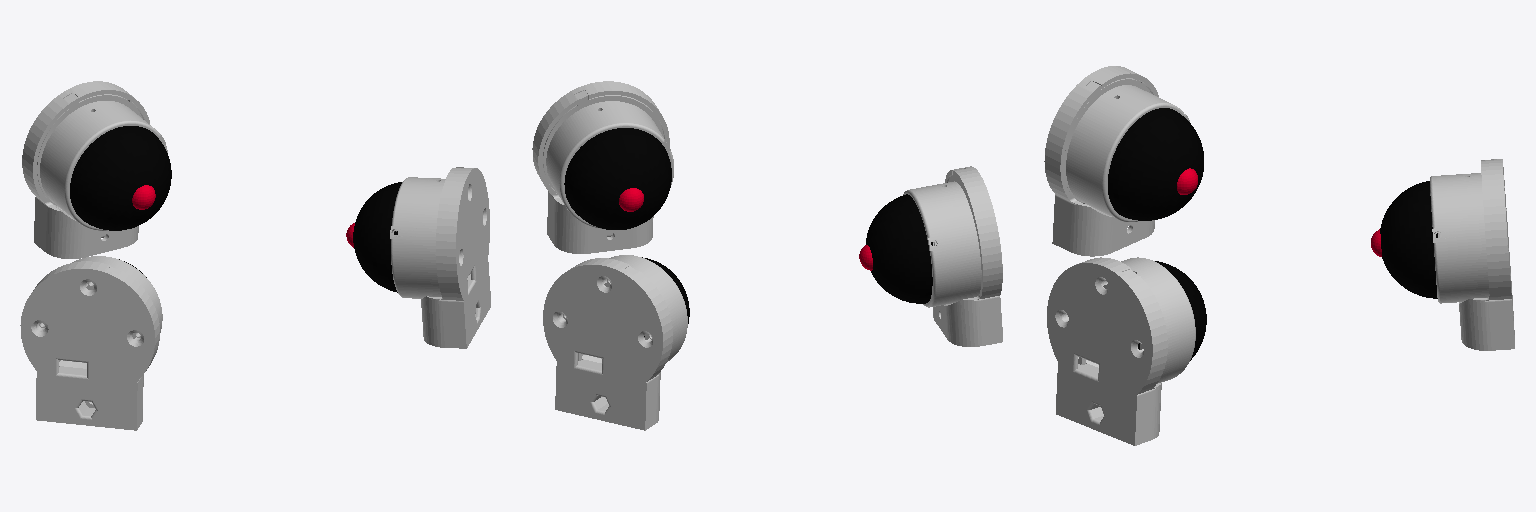
robot.urdf — smart_grasping_sandbox:
<?xml version="1.0" ?>
<!-- =================================================================================== -->
<!-- |    This document was autogenerated by xacro from /smart_grasping_sandbox/src/smart_grasping_sandbox/fh_desc/robots/right_H1_ur5.urdf | -->
<!-- |    EDITING THIS FILE BY HAND IS NOT RECOMMENDED                                 | -->
<!-- =================================================================================== -->
<robot name="smart_grasping_sandbox" xmlns:xacro="http://ros.org/wiki/xacro">

  <!-- Colors -->
  <material name="DarkGrey">
    <color rgba="0.2 0.2 0.2 1.0"/>
  </material>
  <material name="Grey">
    <color rgba="0.4 0.4 0.4 1.0"/>
  </material>
  <material name="Orange">
    <color rgba="1.0 0.423529411765 0.0392156862745 1.0"/>
  </material>
  <material name="Blue">
    <color rgba="0 0.1 1.0 1.0"/>
  </material>
  <material name="LightGrey">
    <color rgba="0.7 0.7 0.7 1.0"/>
  </material>
  <material name="Red">
    <color rgba="0.9 0 0.2 1.0"/>
  </material>
  <material name="Green">
    <color rgba="0 0.9 0.5 1.0"/>
  </material>
  <material name="Yellow">
    <color rgba="0.7 0.7 0 1.0"/>
  </material>
  <material name="LightBlue">
    <color rgba="0. 0.3 1.0 1.0"/>
  </material>
  <material name="Black">
    <color rgba="0.05 0.05 0.05 1.0"/>
  </material>
  <material name="White">
    <color rgba="1.0 1.0 1.0 1.0" />
  </material>
  <material name="TacTipWhite">
   <color rgba="0.8 0.8 0.8 1.0"/>
 </material>
 <material name="TransparentRed">
   <color rgba="0.9 0 0.2 0.5"/>
 </material>

<!-- ====================== Shadow Modular Grasper ====================== -->

<!-- connect hand to world -->
<link name="world"/>

<link name="SMG_base_link">
  <inertial>
    <origin rpy="0 0 0" xyz="-8.6116E-06 -0.0058125 0.028294"/>
    <mass value="0.07527"/>
    <inertia ixx="0.00014442" ixy="1.2033E-08" ixz="-5.9646E-10" iyy="0.00014979" iyz="-1.0288E-05" izz="5.2943E-05"/>
  </inertial>

  <visual>
    <origin rpy="0 0 0" xyz="0 0 0"/>
    <geometry>
      <mesh filename="hand/palm_link_simple.dae"/>
    </geometry>
    <material name="DarkGrey"/>
  </visual>

  <collision>
    <origin rpy="0 0 0" xyz="0 0 0"/>
    <geometry>
      <mesh filename="hand/palm_link_simple.dae"/>
    </geometry>
  </collision>
</link>

<joint name="SMG_base_joint" type="fixed">
  <origin rpy="0 0 0" xyz="0 0 0"/>
  <parent link="world"/>
  <child link="SMG_wrist_attach"/>
</joint>

<link name="SMG_wrist_attach">
  <inertial>
    <mass value="0.1879"/>
    <origin rpy="0 0 0" xyz="0.0 0.0 0.0"/>
    <inertia ixx="1.0" ixy="0.0" ixz="0.0" iyy="1.0" iyz="0.0" izz="1.0"/>
  </inertial>
</link>

<joint name="SMG_base_link_wrist_attach" type="fixed">
  <origin rpy="0 0 0" xyz="0 0 -0.0005"/>
  <child link="SMG_base_link"/>
  <parent link="SMG_wrist_attach"/>
</joint>


  <!-- ============= SMG Body =============== -->
  <link name="SMG_insert_F1">
    <inertial>
      <mass value="0.1879"/>
      <origin rpy="0 0 0" xyz="0.0 0.0 0.0"/>
      <inertia ixx="1.0" ixy="0.0" ixz="0.0" iyy="1.0" iyz="0.0" izz="1.0"/>
    </inertial>
  </link>

  <joint name="SMG_dummy_joint_1" type="fixed">
    <origin rpy="0 0 2.3562" xyz="-0.045 -0.025981 0"/>
    <axis xyz="0 -1 0"/>
    <parent link="SMG_base_link"/>
    <child link="SMG_insert_F1"/>
  </joint>

  <link name="SMG_insert_F2">
    <inertial>
      <mass value="0.1879"/>
      <origin rpy="0 0 0" xyz="0.0 0.0 0.0"/>
      <inertia ixx="1.0" ixy="0.0" ixz="0.0" iyy="1.0" iyz="0.0" izz="1.0"/>
    </inertial>
  </link>

  <joint name="SMG_dummy_joint_2" type="fixed">
    <origin rpy="0 0 0" xyz="0 0.029019 0"/>
    <axis xyz="0 -1 0"/>
    <parent link="SMG_base_link"/>
    <child link="SMG_insert_F2"/>
  </joint>

  <link name="SMG_insert_F3">
    <inertial>
      <mass value="0.1879"/>
      <origin rpy="0 0 0" xyz="0.0 0.0 0.0"/>
      <inertia ixx="1.0" ixy="0.0" ixz="0.0" iyy="1.0" iyz="0.0" izz="1.0"/>
    </inertial>
  </link>

  <joint name="SMG_dummy_joint_3" type="fixed">
    <origin rpy="0 0 -2.3562" xyz="0.045 -0.025981 0"/>
    <axis xyz="0 -1 0"/>
    <parent link="SMG_base_link"/>
    <child link="SMG_insert_F3"/>
  </joint>


  <!-- ============= Finger 1 =============== -->
  <link name="SMG_F1_palm_link">
    <inertial>
      <origin rpy="0 0 0" xyz="-0.00681802120880393 -0.00947020456878004 0.067587996682422"/>
      <mass value="0.0341482312344481"/>
      <inertia ixx="2.79747833772125E-05" ixy="-5.50900644725373E-08" ixz="-2.82072424927723E-07" iyy="2.67800858812928E-05" iyz="3.1953125069394E-06" izz="9.86122271726361E-06"/>
    </inertial>

    <visual>
      <origin rpy="0 0 0" xyz="0 0 0"/>
      <geometry>
        <mesh filename="hand/finger_palm_link.dae"/>
      </geometry>
      <material name="DarkGrey"/>
    </visual>

    <collision>
      <origin rpy="0 0 0" xyz="0 0 0"/>
      <geometry>
        <mesh filename="hand/finger_palm_link.dae"/>
      </geometry>
    </collision>
  </link>

  <link name="SMG_F1_base_link">
    <inertial>
      <origin rpy="0 0 0" xyz="-0.000142856770000038 0.0265691681336443 0.0538751581621436"/>
      <mass value="0.174652229503358"/>
      <inertia ixx="0.000298372741514267" ixy="-5.05751882577435E-07" ixz="1.94982779411417E-07" iyy="0.000299629589232877" iyz="2.79565205733806E-05" izz="0.000134889645145365"/>
    </inertial>

    <visual>
      <origin rpy="0 0 0" xyz="0 0 0"/>
      <geometry>
        <mesh filename="hand/finger_base_link_simple.dae"/>
      </geometry>
      <material name="DarkGrey"/>
    </visual>

    <collision>
      <origin rpy="0 0 0" xyz="0 0 0"/>
      <geometry>
        <mesh filename="hand/finger_base_link_simple.dae"/>
      </geometry>
    </collision>
  </link>

  <link name="SMG_F1_link_1">
    <inertial>
      <origin rpy="0 0 0" xyz="-0.000141876508729455 -0.00135409566494088 0.0277606215980989"/>
      <mass value="0.0827759744227546"/>
      <inertia ixx="4.61070151157777E-05" ixy="7.47741111557837E-08" ixz="-2.25165057702697E-07" iyy="5.27678327317508E-05" iyz="-3.64603343546298E-07" izz="2.89599551320955E-05"/>
    </inertial>

    <visual>
      <origin rpy="0 0 0" xyz="0 0 0"/>
      <geometry>
        <mesh filename="hand/finger_prox_link_simple.dae"/>
      </geometry>
      <material name="LightGrey"/>
    </visual>

    <collision>
      <origin rpy="0 0 0" xyz="0 0 0"/>
      <geometry>
        <mesh filename="hand/finger_prox_link_simple.dae"/>
      </geometry>
    </collision>
  </link>

  <link name="SMG_F1_link_2">
    <inertial>
      <origin rpy="0 0 0" xyz="0.000506812071918918 -0.00091292934992606 0.0156620851768385"/>
      <mass value="0.0270049614151599"/>
      <inertia ixx="1.06942730265546E-05" ixy="-7.1810089794211E-09" ixz="-3.49957211410822E-07" iyy="1.05772889540593E-05" iyz="-8.38595987731518E-07" izz="3.27173446995846E-06"/>
    </inertial>

    <visual>
      <origin rpy="0 0 0" xyz="0 0 0"/>
      <geometry>
        <mesh filename="tip/dist_hand_mount.obj"/>
      </geometry>
      <material name="DarkGrey"/>
    </visual>

    <collision>
      <origin rpy="0 0 0" xyz="0 0 0"/>
      <geometry>
        <mesh filename="tip/dist_hand_mount.obj"/>
      </geometry>
    </collision>
  </link>

  <joint name="SMG_F1_palm" type="fixed">
    <origin rpy="0 0 0" xyz="0 0 0"/>
    <parent link="SMG_insert_F1"/>
    <child link="SMG_F1_palm_link"/>
  </joint>

  <joint name="SMG_F1J1" type="revolute">
    <origin rpy="-8.8818E-16 -1.0061E-16 0.022402" xyz="0 0 0.00016528"/>
    <axis xyz="0 0 1"/>
    <parent link="SMG_F1_palm_link"/>
    <child link="SMG_F1_base_link"/>
    <limit effort="50" lower="-0.785398163397" upper="0.785398163397" velocity="1.0"/>
    <!-- <dynamics damping="0.5" friction="0.0"/> -->
  </joint>

  <joint name="SMG_F1J2" type="revolute">
    <origin rpy="0.070695 6.9389E-16 2.0947E-16" xyz="0 0.035 0.11683"/>
    <axis xyz="1 0 0"/>
    <parent link="SMG_F1_base_link"/>
    <child link="SMG_F1_link_1"/>
    <limit effort="50" lower="-1.3962634016" upper="1.0471975512" velocity="1.0"/>
    <!-- <dynamics damping="0.5" friction="0.0"/> -->
  </joint>

  <joint name="SMG_F1J3" type="revolute">
    <origin rpy="-0.0068649 1.7347E-18 1.6176E-16" xyz="0 0 0.06"/>
    <axis xyz="1 0 0"/>
    <parent link="SMG_F1_link_1"/>
    <child link="SMG_F1_link_2"/>
    <limit effort="50" lower="-1.0471975512" upper="1.57079632679" velocity="1.0"/>
    <!-- <dynamics damping="0.5" friction="0.0"/> -->
  </joint>

  <link name="SMG_F1_tactip_body">
    <inertial>
      <origin rpy="0 0 0" xyz="-0.000925580990320645 -0.00495543398528436 0.0355865585792753"/>
      <mass value="0.01"/>
      <inertia ixx="1E-06" ixy="0" ixz="0" iyy="1E-06" iyz="0" izz="1E-06"/>
    </inertial>

    <visual>
      <origin rpy="0 0 0" xyz="0 0 0"/>
      <geometry>
        <mesh filename="tip/minitip_smg_adapter.obj"/>
      </geometry>
      <material name="TacTipWhite"/>
    </visual>

    <collision>
      <origin rpy="0 0 0" xyz="0 0 0"/>
      <geometry>
        <mesh filename="tip/minitip_smg_adapter.obj"/>
      </geometry>
    </collision>
  </link>

  <joint name="SMG_F1_tactip_body_joint" type="fixed">
    <parent link="SMG_F1_link_2"/>
    <child link="SMG_F1_tactip_body"/>
  </joint>

  <link name="SMG_F1_tactip_tip">
    <inertial>
      <origin rpy="0 0 0" xyz="-0.000925580990320645 -0.00495543398528436 0.0355865585792753"/>
      <mass value="0.01"/>
      <inertia ixx="1E-06" ixy="0" ixz="0" iyy="1E-06" iyz="0" izz="1E-06"/>
    </inertial>

    <visual>
      <origin rpy="0 0 0" xyz="0 0 0"/>
      <geometry>
        <mesh filename="tip/smg_tactip_skin.obj"/>
      </geometry>
      <material name="Black"/>
    </visual>

    <collision>
      <origin rpy="0 0 0" xyz="0 0 0"/>
      <geometry>
        <mesh filename="tip/smg_tactip_core.obj"/>
      </geometry>
    </collision>
  </link>

  <joint name="SMG_F1_tactip_tip_joint" type="fixed">
    <parent link="SMG_F1_tactip_body"/>
    <child link="SMG_F1_tactip_tip"/>
  </joint>

  <!-- TCP -->
  <link name="F1_tcp_link">
    <visual>
      <origin rpy="0 0 0" xyz="0 0 0"/>
      <geometry>
        <sphere radius="0.005"/>
      </geometry>
       <material name="TransparentRed"/>
    </visual>
    <inertial>
      <mass value="0.0"/>
      <origin rpy="0.0 0.0 3.14" xyz="0.0 0.0 0.0"/>
      <inertia ixx="1.0" ixy="0.0" ixz="0.0" iyy="1.0" iyz="0.0" izz="1.0"/>
    </inertial>
  </link>

  <joint name="F1_tcp_joint" type="fixed">
    <parent link="SMG_F1_tactip_body"/>
    <child link="F1_tcp_link"/>
    <origin rpy="0 0 0" xyz="0.0 -0.02 0.052"/>
  </joint>


  <!-- ============= Finger 2 =============== -->
  <link name="SMG_F2_palm_link">
    <inertial>
      <origin rpy="0 0 0" xyz="-0.00681802120880393 -0.00947020456878004 0.067587996682422"/>
      <mass value="0.0341482312344481"/>
      <inertia ixx="2.79747833772125E-05" ixy="-5.50900644725373E-08" ixz="-2.82072424927723E-07" iyy="2.67800858812928E-05" iyz="3.1953125069394E-06" izz="9.86122271726361E-06"/>
    </inertial>

    <visual>
      <origin rpy="0 0 0" xyz="0 0 0"/>
      <geometry>
        <mesh filename="hand/finger_palm_link.dae"/>
      </geometry>
      <material name="DarkGrey"/>
    </visual>

    <collision>
      <origin rpy="0 0 0" xyz="0 0 0"/>
      <geometry>
        <mesh filename="hand/finger_palm_link.dae"/>
      </geometry>
    </collision>
  </link>

  <link name="SMG_F2_base_link">
    <inertial>
      <origin rpy="0 0 0" xyz="-0.000142856770000038 0.0265691681336443 0.0538751581621436"/>
      <mass value="0.174652229503358"/>
      <inertia ixx="0.000298372741514267" ixy="-5.05751882577435E-07" ixz="1.94982779411417E-07" iyy="0.000299629589232877" iyz="2.79565205733806E-05" izz="0.000134889645145365"/>
    </inertial>

    <visual>
      <origin rpy="0 0 0" xyz="0 0 0"/>
      <geometry>
        <mesh filename="hand/finger_base_link_simple.dae"/>
      </geometry>
      <material name="DarkGrey"/>
    </visual>

    <collision>
      <origin rpy="0 0 0" xyz="0 0 0"/>
      <geometry>
        <mesh filename="hand/finger_base_link_simple.dae"/>
      </geometry>
    </collision>
  </link>


  <link name="SMG_F2_link_1">
    <inertial>
      <origin rpy="0 0 0" xyz="-0.000141876508729455 -0.00135409566494088 0.0277606215980989"/>
      <mass value="0.0827759744227546"/>
      <inertia ixx="4.61070151157777E-05" ixy="7.47741111557837E-08" ixz="-2.25165057702697E-07" iyy="5.27678327317508E-05" iyz="-3.64603343546298E-07" izz="2.89599551320955E-05"/>
    </inertial>

    <visual>
      <origin rpy="0 0 0" xyz="0 0 0"/>
      <geometry>
        <mesh filename="hand/finger_prox_link_simple.dae"/>
      </geometry>
      <material name="LightGrey"/>
    </visual>

    <collision>
      <origin rpy="0 0 0" xyz="0 0 0"/>
      <geometry>
        <mesh filename="hand/finger_prox_link_simple.dae"/>
      </geometry>
    </collision>
  </link>


  <link name="SMG_F2_link_2">
    <inertial>
      <origin rpy="0 0 0" xyz="0.000506812071918918 -0.00091292934992606 0.0156620851768385"/>
      <mass value="0.0270049614151599"/>
      <inertia ixx="1.06942730265546E-05" ixy="-7.1810089794211E-09" ixz="-3.49957211410822E-07" iyy="1.05772889540593E-05" iyz="-8.38595987731518E-07" izz="3.27173446995846E-06"/>
    </inertial>

    <visual>
      <origin rpy="0 0 0" xyz="0 0 0"/>
      <geometry>
        <mesh filename="tip/dist_hand_mount.obj"/>
      </geometry>
      <material name="DarkGrey"/>
    </visual>

    <collision>
      <origin rpy="0 0 0" xyz="0 0 0"/>
      <geometry>
        <mesh filename="tip/dist_hand_mount.obj"/>
      </geometry>
    </collision>
  </link>

  <joint name="SMG_F2_palm" type="fixed">
    <origin rpy="0 0 0" xyz="0 0 0"/>
    <parent link="SMG_insert_F2"/>
    <child link="SMG_F2_palm_link"/>
  </joint>

  <joint name="SMG_F2J1" type="revolute">
    <origin rpy="-8.8818E-16 -1.0061E-16 0.022402" xyz="0 0 0.00016528"/>
    <axis xyz="0 0 1"/>
    <parent link="SMG_F2_palm_link"/>
    <child link="SMG_F2_base_link"/>
    <limit effort="30" lower="-0.785398163397" upper="0.785398163397" velocity="1.0"/>
    <!-- <dynamics damping="0.5" friction="0.0"/> -->
  </joint>

  <joint name="SMG_F2J2" type="revolute">
    <origin rpy="0.070695 6.9389E-16 2.0947E-16" xyz="0 0.035 0.11683"/>
    <axis xyz="1 0 0"/>
    <parent link="SMG_F2_base_link"/>
    <child link="SMG_F2_link_1"/>
    <limit effort="30" lower="-1.3962634016" upper="1.0471975512" velocity="1.0"/>
    <!-- <dynamics damping="0.5" friction="0.0"/> -->
  </joint>

  <joint name="SMG_F2J3" type="revolute">
    <origin rpy="-0.0068649 1.7347E-18 1.6176E-16" xyz="0 0 0.06"/>
    <axis xyz="1 0 0"/>
    <parent link="SMG_F2_link_1"/>
    <child link="SMG_F2_link_2"/>
    <limit effort="30" lower="-1.0471975512" upper="1.57079632679" velocity="1.0"/>
    <!-- <dynamics damping="0.5" friction="0.0"/> -->
  </joint>

  <link name="SMG_F2_tactip_body">
    <inertial>
      <origin rpy="0 0 0" xyz="-0.000925580990320645 -0.00495543398528436 0.0355865585792753"/>
      <mass value="0.01"/>
      <inertia ixx="1E-06" ixy="0" ixz="0" iyy="1E-06" iyz="0" izz="1E-06"/>
    </inertial>

    <visual>
      <origin rpy="0 0 0" xyz="0 0 0"/>
      <geometry>
        <mesh filename="tip/minitip_smg_adapter.obj"/>
      </geometry>
      <material name="TacTipWhite"/>
    </visual>

    <collision>
      <origin rpy="0 0 0" xyz="0 0 0"/>
      <geometry>
        <mesh filename="tip/minitip_smg_adapter.obj"/>
      </geometry>
    </collision>
  </link>

  <joint name="SMG_F2_tactip_body_joint" type="fixed">
    <parent link="SMG_F2_link_2"/>
    <child link="SMG_F2_tactip_body"/>
  </joint>

  <link name="SMG_F2_tactip_tip">
    <inertial>
      <origin rpy="0 0 0" xyz="-0.000925580990320645 -0.00495543398528436 0.0355865585792753"/>
      <mass value="0.01"/>
      <inertia ixx="1E-06" ixy="0" ixz="0" iyy="1E-06" iyz="0" izz="1E-06"/>
    </inertial>

    <visual>
      <origin rpy="0 0 0" xyz="0 0 0"/>
      <geometry>
        <mesh filename="tip/smg_tactip_skin.obj"/>
      </geometry>
      <material name="Black"/>
    </visual>

    <collision>
      <origin rpy="0 0 0" xyz="0 0 0"/>
      <geometry>
        <mesh filename="tip/smg_tactip_core.obj"/>
      </geometry>
    </collision>
  </link>

  <joint name="SMG_F2_tactip_tip_joint" type="fixed">
    <parent link="SMG_F2_tactip_body"/>
    <child link="SMG_F2_tactip_tip"/>
  </joint>

  <!-- TCP -->
  <link name="F2_tcp_link">
    <visual>
      <origin rpy="0 0 0" xyz="0 0 0"/>
      <geometry>
        <sphere radius="0.005"/>
      </geometry>
       <material name="TransparentRed"/>
    </visual>
    <inertial>
      <mass value="0.0"/>
      <origin rpy="0.0 0.0 3.14" xyz="0.0 0.0 0.0"/>
      <inertia ixx="1.0" ixy="0.0" ixz="0.0" iyy="1.0" iyz="0.0" izz="1.0"/>
    </inertial>
  </link>

  <joint name="F2_tcp_joint" type="fixed">
    <parent link="SMG_F2_tactip_body"/>
    <child link="F2_tcp_link"/>
    <origin rpy="0 0 0" xyz="0.0 -0.02 0.052"/>
  </joint>

  <!-- ============= Finger 3 =============== -->
  <link name="SMG_F3_palm_link">
    <inertial>
      <origin rpy="0 0 0" xyz="-0.00681802120880393 -0.00947020456878004 0.067587996682422"/>
      <mass value="0.0341482312344481"/>
      <inertia ixx="2.79747833772125E-05" ixy="-5.50900644725373E-08" ixz="-2.82072424927723E-07" iyy="2.67800858812928E-05" iyz="3.1953125069394E-06" izz="9.86122271726361E-06"/>
    </inertial>

    <visual>
      <origin rpy="0 0 0" xyz="0 0 0"/>
      <geometry>
        <mesh filename="hand/finger_palm_link.dae"/>
      </geometry>
      <material name="DarkGrey"/>
    </visual>

    <collision>
      <origin rpy="0 0 0" xyz="0 0 0"/>
      <geometry>
        <mesh filename="hand/finger_palm_link.dae"/>
      </geometry>
    </collision>
  </link>


  <link name="SMG_F3_base_link">
    <inertial>
      <origin rpy="0 0 0" xyz="-0.000142856770000038 0.0265691681336443 0.0538751581621436"/>
      <mass value="0.174652229503358"/>
      <inertia ixx="0.000298372741514267" ixy="-5.05751882577435E-07" ixz="1.94982779411417E-07" iyy="0.000299629589232877" iyz="2.79565205733806E-05" izz="0.000134889645145365"/>
    </inertial>

    <visual>
      <origin rpy="0 0 0" xyz="0 0 0"/>
      <geometry>
        <mesh filename="hand/finger_base_link_simple.dae"/>
      </geometry>
      <material name="DarkGrey"/>
    </visual>

    <collision>
      <origin rpy="0 0 0" xyz="0 0 0"/>
      <geometry>
        <mesh filename="hand/finger_base_link_simple.dae"/>
      </geometry>
    </collision>
  </link>


  <link name="SMG_F3_link_1">
    <inertial>
      <origin rpy="0 0 0" xyz="-0.000141876508729455 -0.00135409566494088 0.0277606215980989"/>
      <mass value="0.0827759744227546"/>
      <inertia ixx="4.61070151157777E-05" ixy="7.47741111557837E-08" ixz="-2.25165057702697E-07" iyy="5.27678327317508E-05" iyz="-3.64603343546298E-07" izz="2.89599551320955E-05"/>
    </inertial>

    <visual>
      <origin rpy="0 0 0" xyz="0 0 0"/>
      <geometry>
        <mesh filename="hand/finger_prox_link_simple.dae"/>
      </geometry>
      <material name="LightGrey"/>
    </visual>

    <collision>
      <origin rpy="0 0 0" xyz="0 0 0"/>
      <geometry>
        <mesh filename="hand/finger_prox_link_simple.dae"/>
      </geometry>
    </collision>
  </link>



  <link name="SMG_F3_link_2">
    <inertial>
      <origin rpy="0 0 0" xyz="0.000506812071918918 -0.00091292934992606 0.0156620851768385"/>
      <mass value="0.0270049614151599"/>
      <inertia ixx="1.06942730265546E-05" ixy="-7.1810089794211E-09" ixz="-3.49957211410822E-07" iyy="1.05772889540593E-05" iyz="-8.38595987731518E-07" izz="3.27173446995846E-06"/>
    </inertial>

    <visual>
      <origin rpy="0 0 0" xyz="0 0 0"/>
      <geometry>
        <mesh filename="tip/dist_hand_mount.obj"/>
      </geometry>
      <material name="DarkGrey"/>
    </visual>

    <collision>
      <origin rpy="0 0 0" xyz="0 0 0"/>
      <geometry>
        <mesh filename="tip/dist_hand_mount.obj"/>
      </geometry>
    </collision>
  </link>


  <joint name="SMG_F3Palm" type="fixed">
    <origin rpy="0 0 0" xyz="0 0 0"/>
    <parent link="SMG_insert_F3"/>
    <child link="SMG_F3_palm_link"/>
  </joint>

  <joint name="SMG_F3J1" type="revolute">
    <origin rpy="-8.8818E-16 -1.0061E-16 0.022402" xyz="0 0 0.00016528"/>
    <axis xyz="0 0 1"/>
    <parent link="SMG_F3_palm_link"/>
    <child link="SMG_F3_base_link"/>
    <limit effort="30" lower="-0.785398163397" upper="0.785398163397" velocity="1.0"/>
    <!-- <dynamics damping="0.5" friction="0.0"/> -->
  </joint>

  <joint name="SMG_F3J2" type="revolute">
    <origin rpy="0.070695 6.9389E-16 2.0947E-16" xyz="0 0.035 0.11683"/>
    <axis xyz="1 0 0"/>
    <parent link="SMG_F3_base_link"/>
    <child link="SMG_F3_link_1"/>
    <limit effort="30" lower="-1.3962634016" upper="1.0471975512" velocity="1.0"/>
    <!-- <dynamics damping="0.5" friction="0.0"/> -->
  </joint>

  <joint name="SMG_F3J3" type="revolute">
    <origin rpy="-0.0068649 1.7347E-18 1.6176E-16" xyz="0 0 0.06"/>
    <axis xyz="1 0 0"/>
    <parent link="SMG_F3_link_1"/>
    <child link="SMG_F3_link_2"/>
    <limit effort="30" lower="-1.0471975512" upper="1.57079632679" velocity="1.0"/>
    <!-- <dynamics damping="0.5" friction="0.0"/> -->
  </joint>

  <link name="SMG_F3_tactip_body">
    <inertial>
      <origin rpy="0 0 0" xyz="-0.000925580990320645 -0.00495543398528436 0.0355865585792753"/>
      <mass value="0.01"/>
      <inertia ixx="1E-06" ixy="0" ixz="0" iyy="1E-06" iyz="0" izz="1E-06"/>
    </inertial>

    <visual>
      <origin rpy="0 0 0" xyz="0 0 0"/>
      <geometry>
        <mesh filename="tip/minitip_smg_adapter.obj"/>
      </geometry>
      <material name="TacTipWhite"/>
    </visual>

    <collision>
      <origin rpy="0 0 0" xyz="0 0 0"/>
      <geometry>
        <mesh filename="tip/minitip_smg_adapter.obj"/>
      </geometry>
    </collision>
  </link>

  <joint name="SMG_F3_tactip_body_joint" type="fixed">
    <parent link="SMG_F3_link_2"/>
    <child link="SMG_F3_tactip_body"/>
  </joint>

  <link name="SMG_F3_tactip_tip">
    <inertial>
      <origin rpy="0 0 0" xyz="-0.000925580990320645 -0.00495543398528436 0.0355865585792753"/>
      <mass value="0.01"/>
      <inertia ixx="1E-06" ixy="0" ixz="0" iyy="1E-06" iyz="0" izz="1E-06"/>
    </inertial>

    <visual>
      <origin rpy="0 0 0" xyz="0 0 0"/>
      <geometry>
        <mesh filename="tip/smg_tactip_skin.obj"/>
      </geometry>
      <material name="Black"/>
    </visual>

    <collision>
      <origin rpy="0 0 0" xyz="0 0 0"/>
      <geometry>
        <mesh filename="tip/smg_tactip_core.obj"/>
      </geometry>
    </collision>
  </link>

  <joint name="SMG_F3_tactip_tip_joint" type="fixed">
    <parent link="SMG_F3_tactip_body"/>
    <child link="SMG_F3_tactip_tip"/>
  </joint>

  <!-- TCP -->
  <link name="F3_tcp_link">
    <visual>
      <origin rpy="0 0 0" xyz="0 0 0"/>
      <geometry>
        <sphere radius="0.005"/>
      </geometry>
       <material name="TransparentRed"/>
    </visual>
    <inertial>
      <mass value="0.0"/>
      <origin rpy="0.0 0.0 3.14" xyz="0.0 0.0 0.0"/>
      <inertia ixx="1.0" ixy="0.0" ixz="0.0" iyy="1.0" iyz="0.0" izz="1.0"/>
    </inertial>
  </link>

  <joint name="F3_tcp_joint" type="fixed">
    <parent link="SMG_F3_tactip_body"/>
    <child link="F3_tcp_link"/>
    <origin rpy="0 0 0" xyz="0.0 -0.02 0.052"/>
  </joint>

</robot>

--- Render facts (derived) ---
3 views of the same robot in one strip: view 1: azimuth 30°, elevation 25°; view 2: azimuth 150°, elevation 25°; view 3: azimuth 270°, elevation 25° (orthographic).
Robot: smart_grasping_sandbox — 27 links, 26 joints (9 revolute, 17 fixed); root link world; default pose: every joint at zero.
Visible links, largest first — view 1: SMG_F1_tactip_body, SMG_F3_tactip_body, SMG_F2_tactip_body, SMG_F2_tactip_tip, SMG_F3_tactip_tip; view 2: SMG_F2_tactip_body, SMG_F1_tactip_body, SMG_F3_tactip_body, SMG_F3_tactip_tip, SMG_F1_tactip_tip; view 3: SMG_F3_tactip_body, SMG_F1_tactip_body, SMG_F2_tactip_body, SMG_F1_tactip_tip, SMG_F2_tactip_tip, SMG_F3_tactip_tip.
Boxes of the visible links, <box> form: SMG_F1_tactip_body: <box>20,256,162,430</box>; SMG_F3_tactip_body: <box>390,167,490,348</box>; SMG_F2_tactip_body: <box>22,81,167,258</box>; SMG_F2_tactip_tip: <box>70,126,171,230</box>; SMG_F3_tactip_tip: <box>353,182,401,292</box>; SMG_F2_tactip_body: <box>543,255,687,430</box>; SMG_F1_tactip_body: <box>903,166,1002,346</box>; SMG_F3_tactip_body: <box>532,81,673,253</box>; SMG_F3_tactip_tip: <box>564,128,671,229</box>; SMG_F1_tactip_tip: <box>866,194,932,303</box>; SMG_F3_tactip_body: <box>1047,257,1195,445</box>; SMG_F1_tactip_body: <box>1044,66,1189,256</box>; SMG_F2_tactip_body: <box>1430,159,1514,350</box>; SMG_F1_tactip_tip: <box>1108,108,1203,220</box>; SMG_F2_tactip_tip: <box>1380,181,1437,298</box>; SMG_F3_tactip_tip: <box>1138,261,1206,360</box>.
Bounding box of the posed robot: 0.1937 × 0.1585 × 0.0608 m (x, y, z).
Meshes: 7 distinct files referenced, 6 mesh visuals loaded (2 OBJ); not drawn: 13 (reference not matched to a file when rendering).